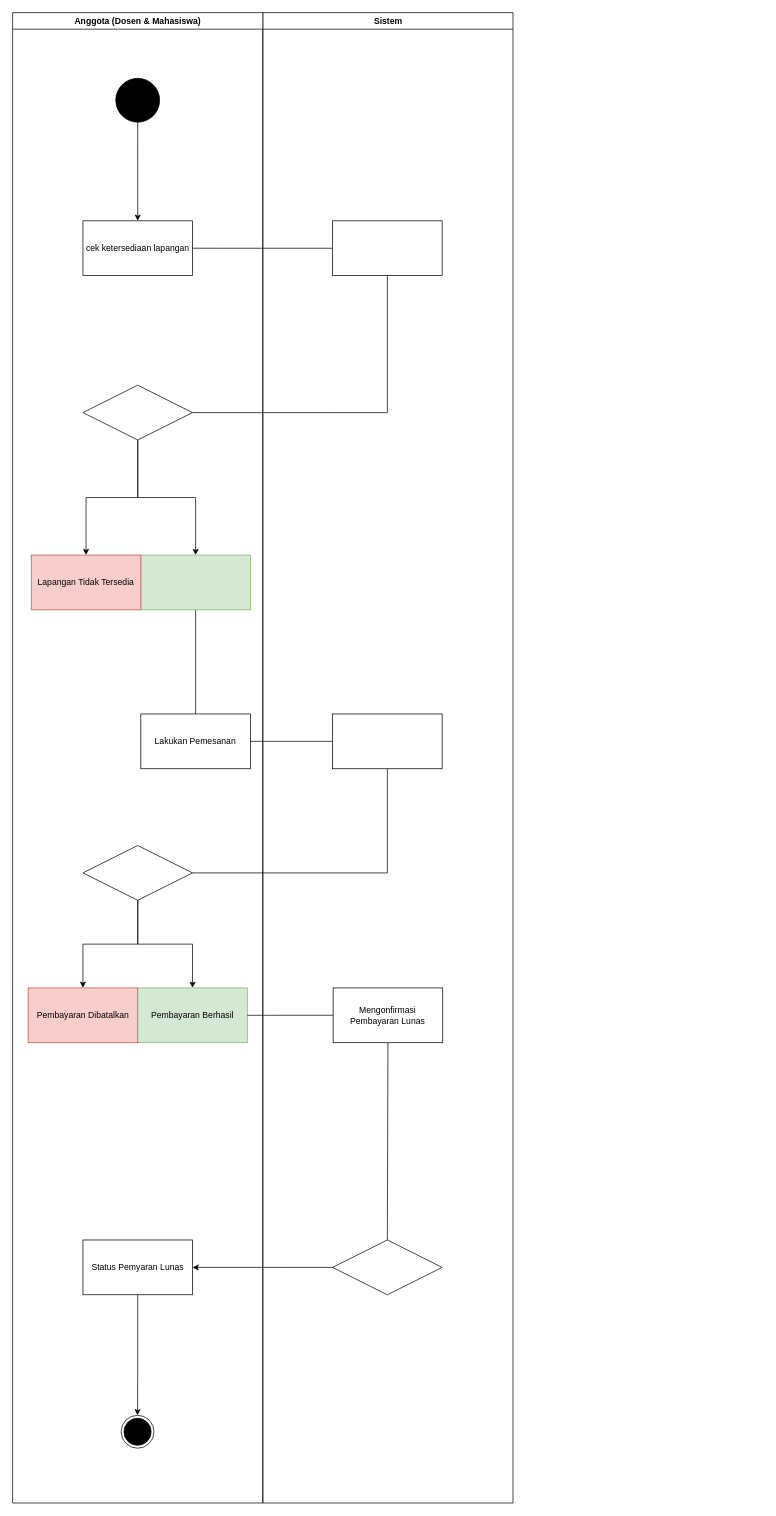
Image size: 776x1516. Some labels were removed from this diagram. The centre of each missing label's shape, as x and y in pixels:
Lapangan Tersedia: the point at 195,582
Menampilkan Status Lapangan: the point at 387,248
Menampilkan status Pemyaran: the point at 387,1267
Sistem mengecek pembayaran: the point at 387,741
